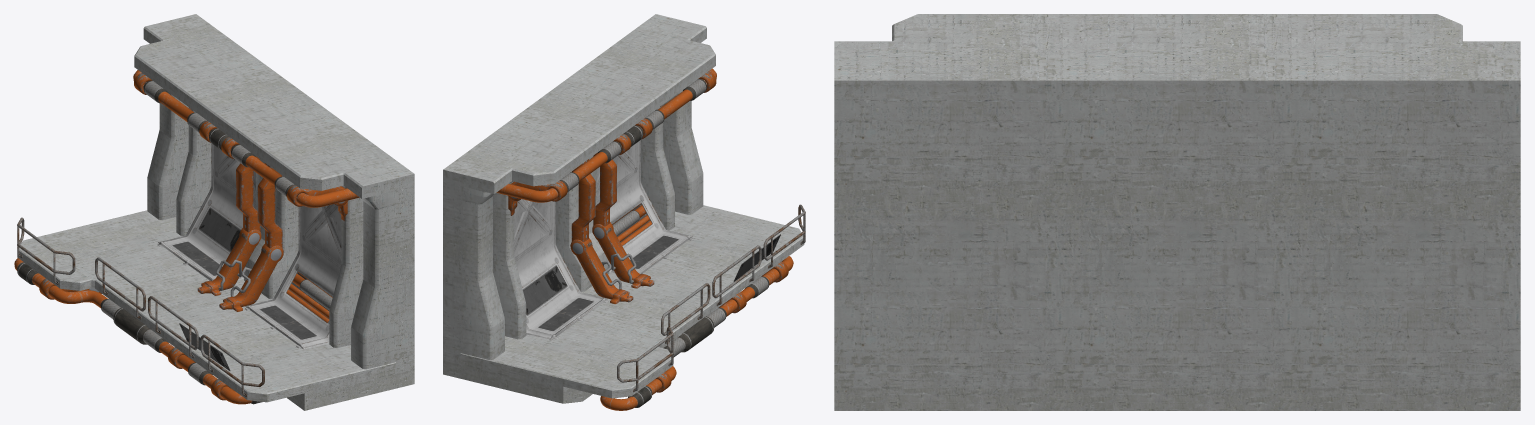
The picture shows the model from 3 angles, left to right: view 1: azimuth 30°, elevation 25°; view 2: azimuth 150°, elevation 25°; view 3: azimuth 270°, elevation 25°; orthographic projection. The views are drawn at different scales.
Visible parts, largest first — view 1: Box001, Box003, wall_panel_01_1_set_015, pilar_213, wall_panel_01_1_set_8, Box002, pilar_214, pilar_209, support_3, support_02_311, pilar_15, pilar_16 (+14 smaller); view 2: Box001, Box003, wall_panel_01_1_set_8, pilar_214, wall_panel_01_1_set_015, Box002, pilar_213, pilar_15, support_02_311, support_3, pilar_209, pilar_212 (+12 smaller); view 3: Box002, Box003.
Part boxes in pixels (left/top/right/bottom): Box001: left=17, top=210, right=396, bottom=410; Box003: left=134, top=14, right=414, bottom=198; wall_panel_01_1_set_015: left=179, top=204, right=341, bottom=370; pilar_213: left=351, top=190, right=396, bottom=369; wall_panel_01_1_set_8: left=157, top=143, right=255, bottom=280; Box002: left=396, top=174, right=414, bottom=388; pilar_214: left=147, top=92, right=188, bottom=220; pilar_209: left=329, top=185, right=363, bottom=347; support_3: left=219, top=137, right=283, bottom=311; support_02_311: left=197, top=121, right=261, bottom=295; pilar_15: left=176, top=108, right=211, bottom=235; pilar_16: left=261, top=176, right=298, bottom=299; Box001: left=460, top=205, right=804, bottom=403; Box003: left=443, top=14, right=715, bottom=193; wall_panel_01_1_set_8: left=514, top=199, right=608, bottom=340; pilar_214: left=460, top=186, right=504, bottom=359; wall_panel_01_1_set_015: left=597, top=140, right=780, bottom=281; Box002: left=443, top=170, right=460, bottom=378; pilar_213: left=663, top=90, right=703, bottom=214; pilar_15: left=493, top=181, right=526, bottom=339; support_02_311: left=570, top=133, right=633, bottom=303; support_3: left=592, top=118, right=654, bottom=288; pilar_209: left=641, top=105, right=674, bottom=230; pilar_212: left=556, top=171, right=592, bottom=291; Box002: left=834, top=80, right=1520, bottom=410; Box003: left=834, top=14, right=1520, bottom=80.
Bounding box in the file's own units: 763 × 830 × 1500.
4 materials, 4 textured.
